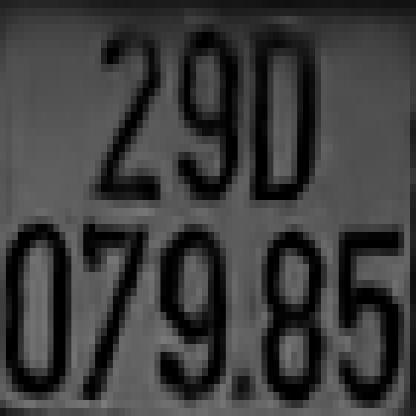0: (6, 216, 71, 392)
2: (89, 32, 161, 200)
5: (333, 224, 398, 400)
7: (83, 216, 149, 392)
8: (256, 224, 315, 392)
9: (154, 224, 220, 392), (178, 24, 232, 200)
D: (250, 32, 321, 208)
